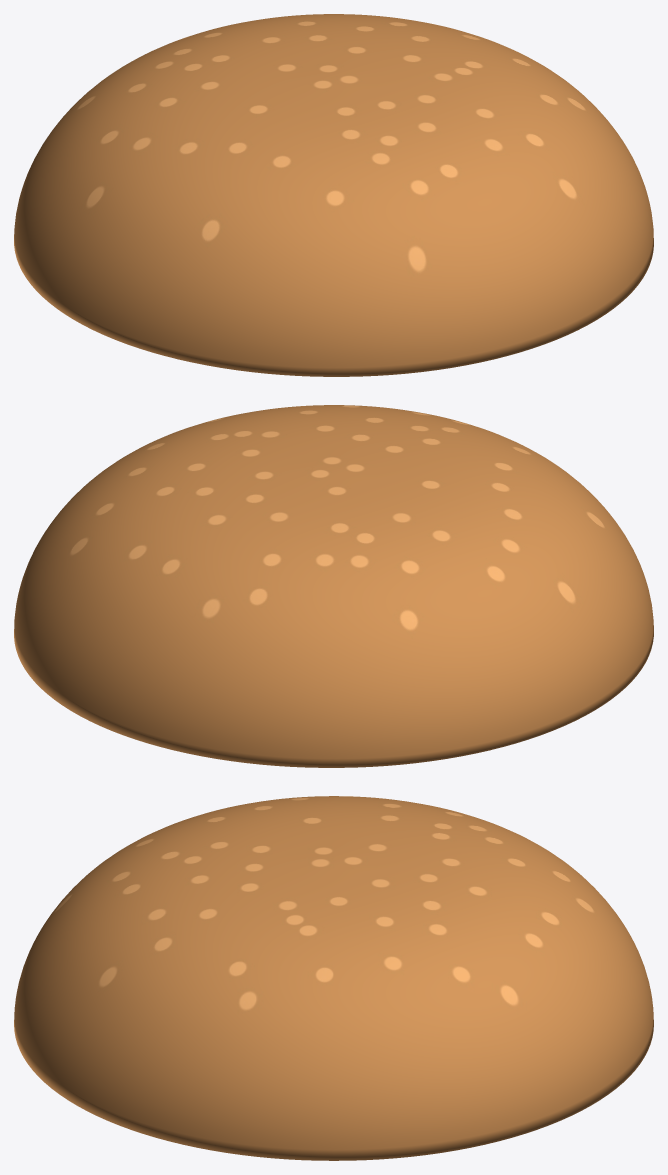
File: bun_top.fbx
The picture shows the model from 3 angles, top to bottom: view 1: azimuth 30°, elevation 25°; view 2: azimuth 150°, elevation 25°; view 3: azimuth 270°, elevation 25°; orthographic projection.
Visible parts, largest first — view 1: Sphere.001; view 2: Sphere.001; view 3: Sphere.001.
Boxes of the visible parts, x1=… form: Sphere.001: x1=14, y1=14, x2=653, y2=376; Sphere.001: x1=14, y1=405, x2=653, y2=767; Sphere.001: x1=14, y1=796, x2=653, y2=1160.
Size of the model in its own units: 712 by 205 by 712.
Materials: 1 (1 with a texture image).
